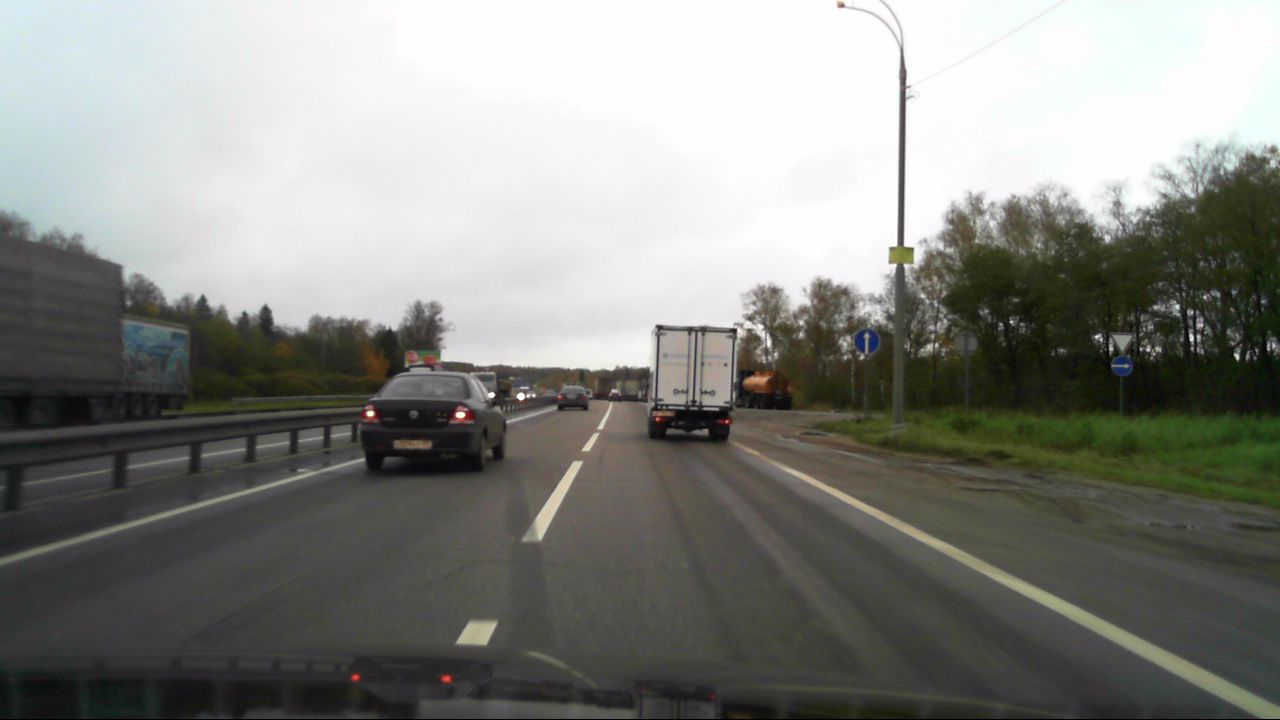Turn Right: (1110, 356, 1133, 376)
